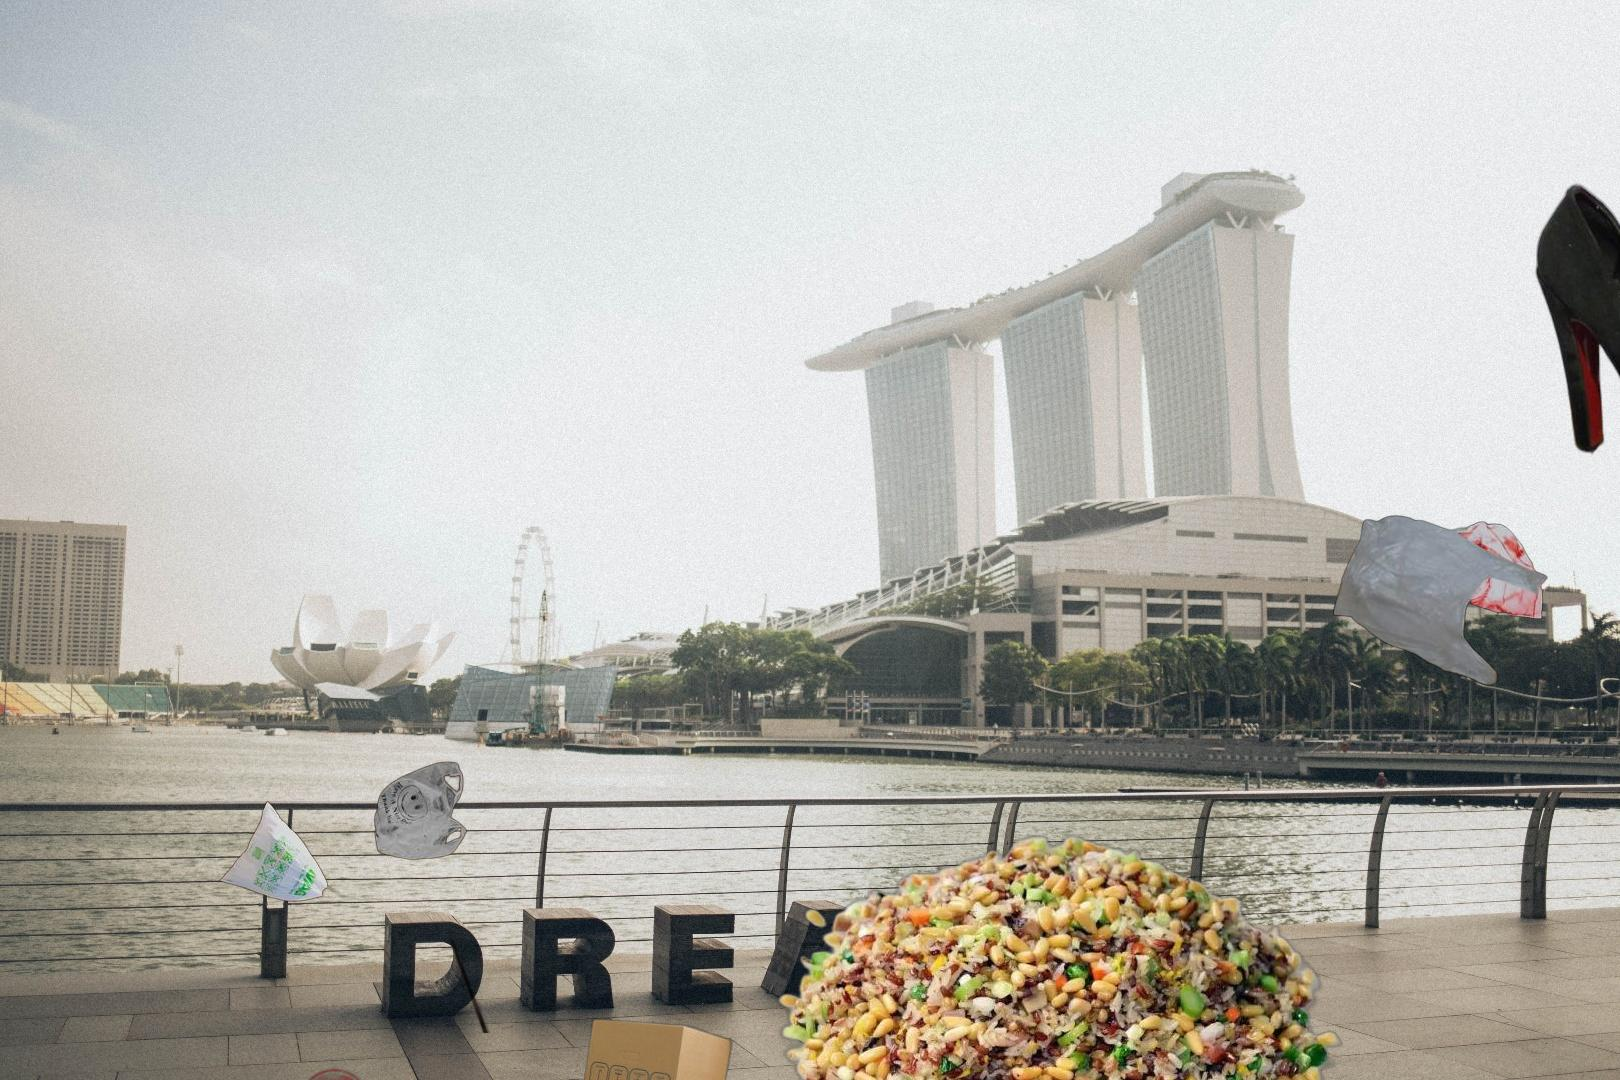biological: (773, 830, 1348, 1080)
metal-cans: (542, 824, 994, 1080)
penholder: (295, 1025, 686, 1080)
plastic-bag: (218, 759, 503, 1033), (1330, 513, 1549, 688)
shoes: (1532, 180, 1620, 509)
trashbox-cardboard: (425, 1015, 747, 1080)
